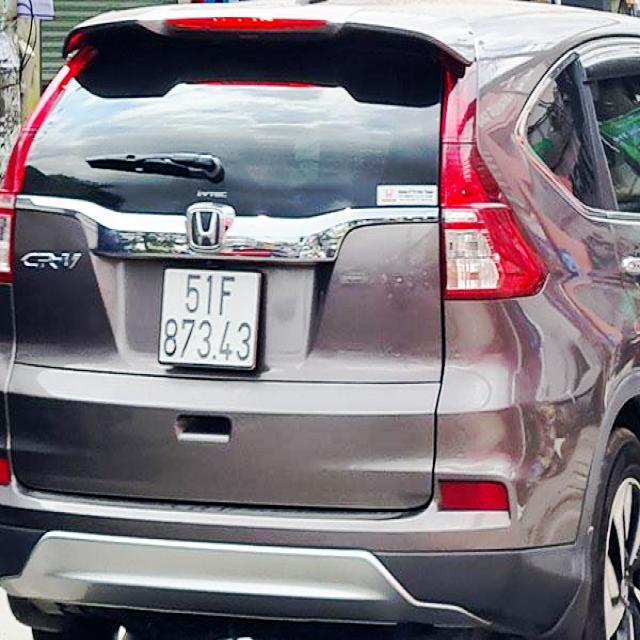license_plate: (160, 267, 266, 368)
